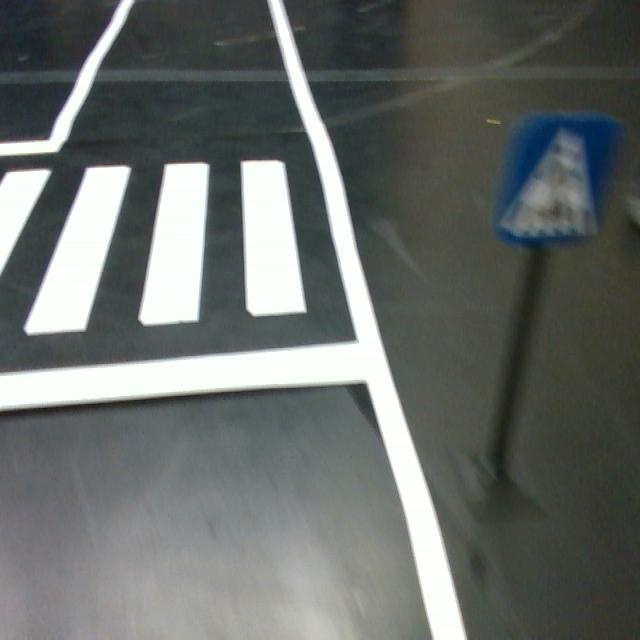crosswalk-sign: (494, 115, 619, 246)
